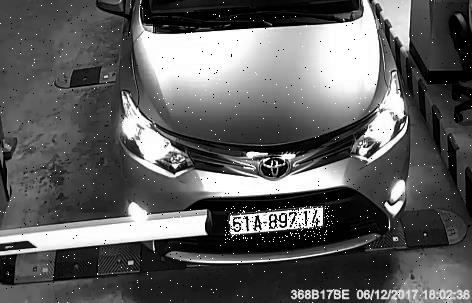License-plate: (226, 207, 335, 243)
